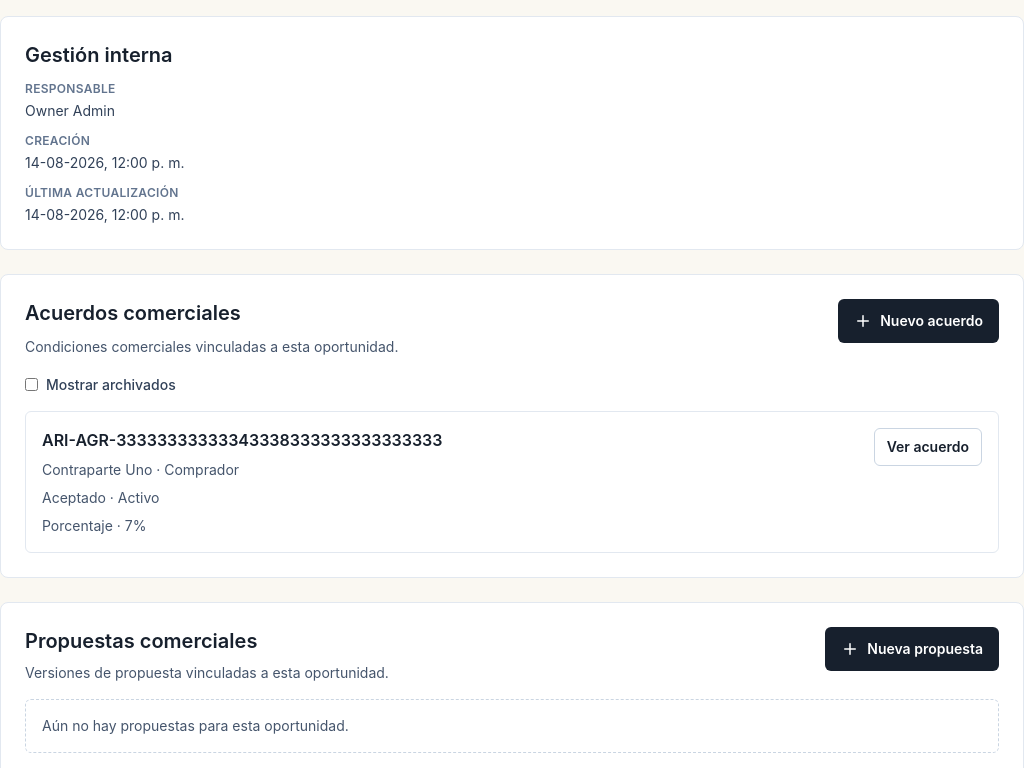
Test: AdminCommercialAgreements › hides archived opportunity agreements by default and shows them on demand
This screenshot has width=1024, height=768.
(page scrolled)
Check: the link "ARI-AGR-33333333333343338333333333333333" is shown, box [42, 430, 442, 450]
Check: the text "ARI-AGR-55555555555545558555555555555555" is not shown
Click the checkbox labelled "Mostrar archivados": (32, 385) [25, 378, 38, 392]
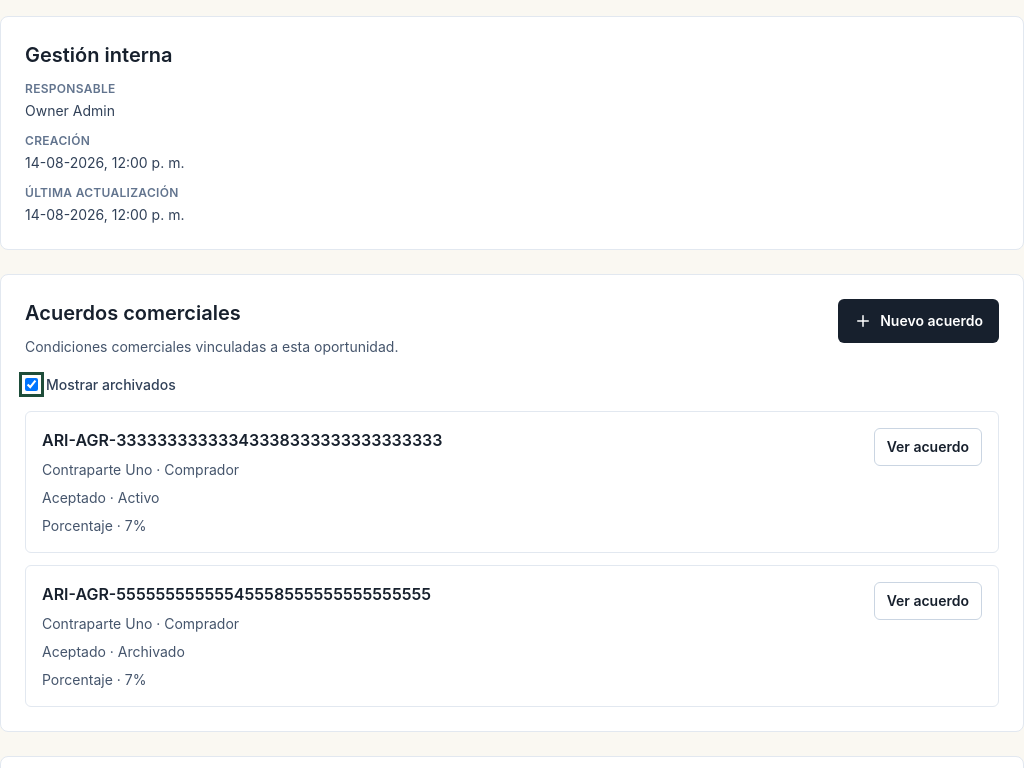
Check: the link "ARI-AGR-55555555555545558555555555555555" is shown, box [42, 584, 431, 604]
